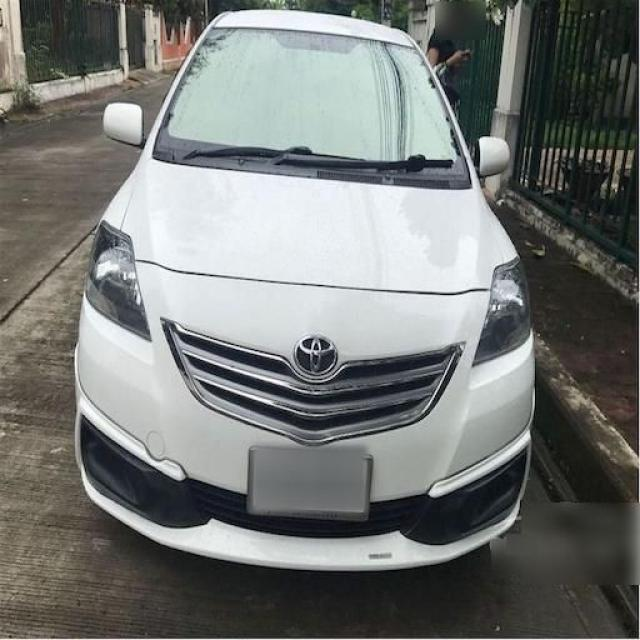front_bumper: (74, 261, 538, 572)
front_glass: (152, 27, 469, 189)
front_left_light: (474, 255, 533, 366)
front_right_light: (87, 217, 154, 343)
hood: (121, 157, 502, 294)
left_mirror: (476, 137, 511, 179)
right_mirror: (102, 102, 145, 150)
